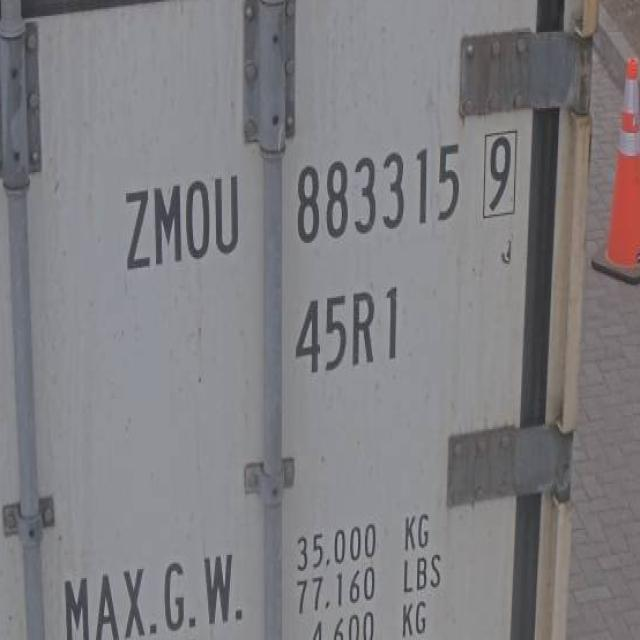dv: (478, 120, 520, 228)
owner: (114, 173, 249, 281)
serial: (287, 131, 463, 249)
size: (292, 280, 406, 380)
